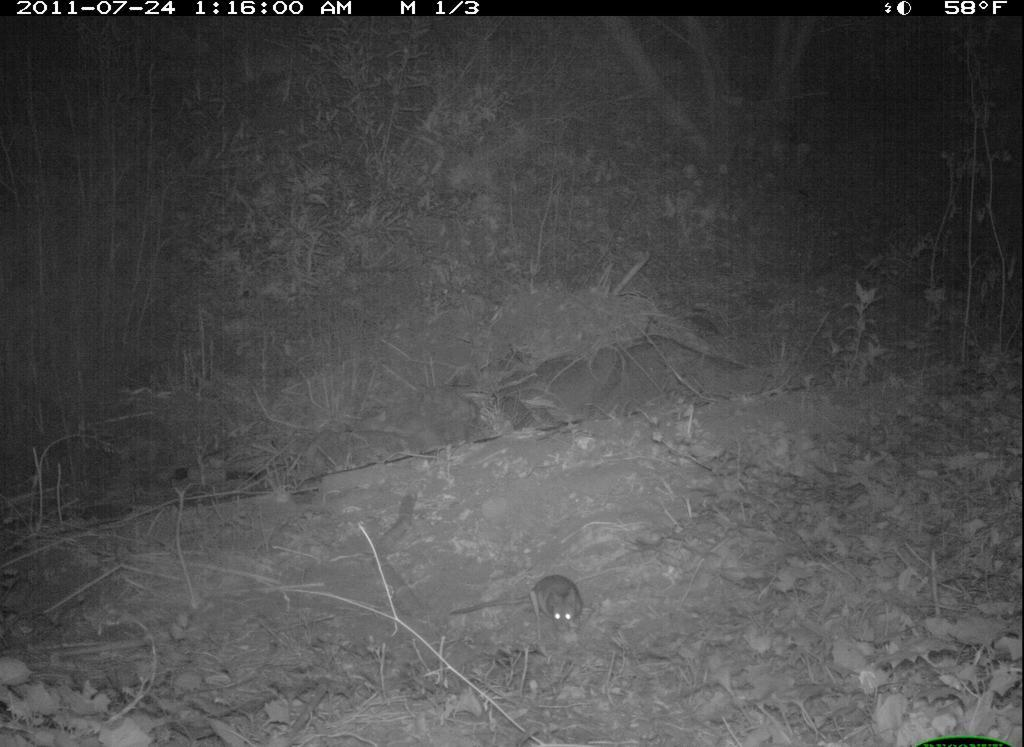rodent: (493, 562, 636, 645)
